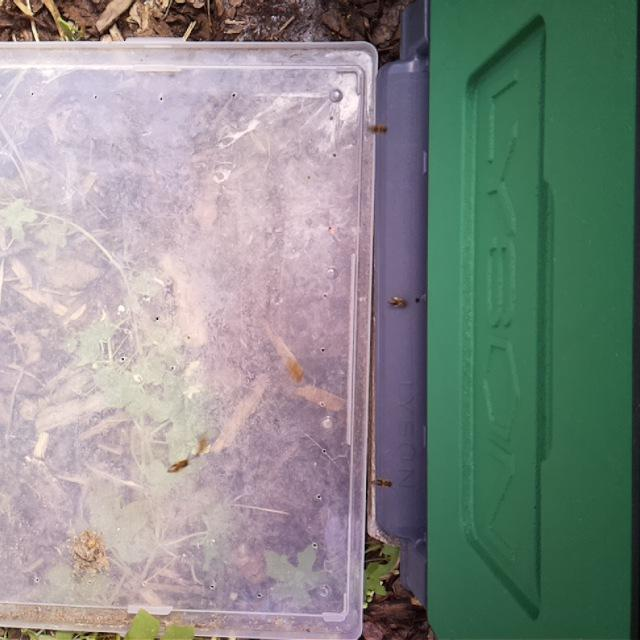worker-bee: (165, 457, 194, 478), (386, 294, 409, 312), (371, 476, 394, 492), (364, 122, 389, 136)
